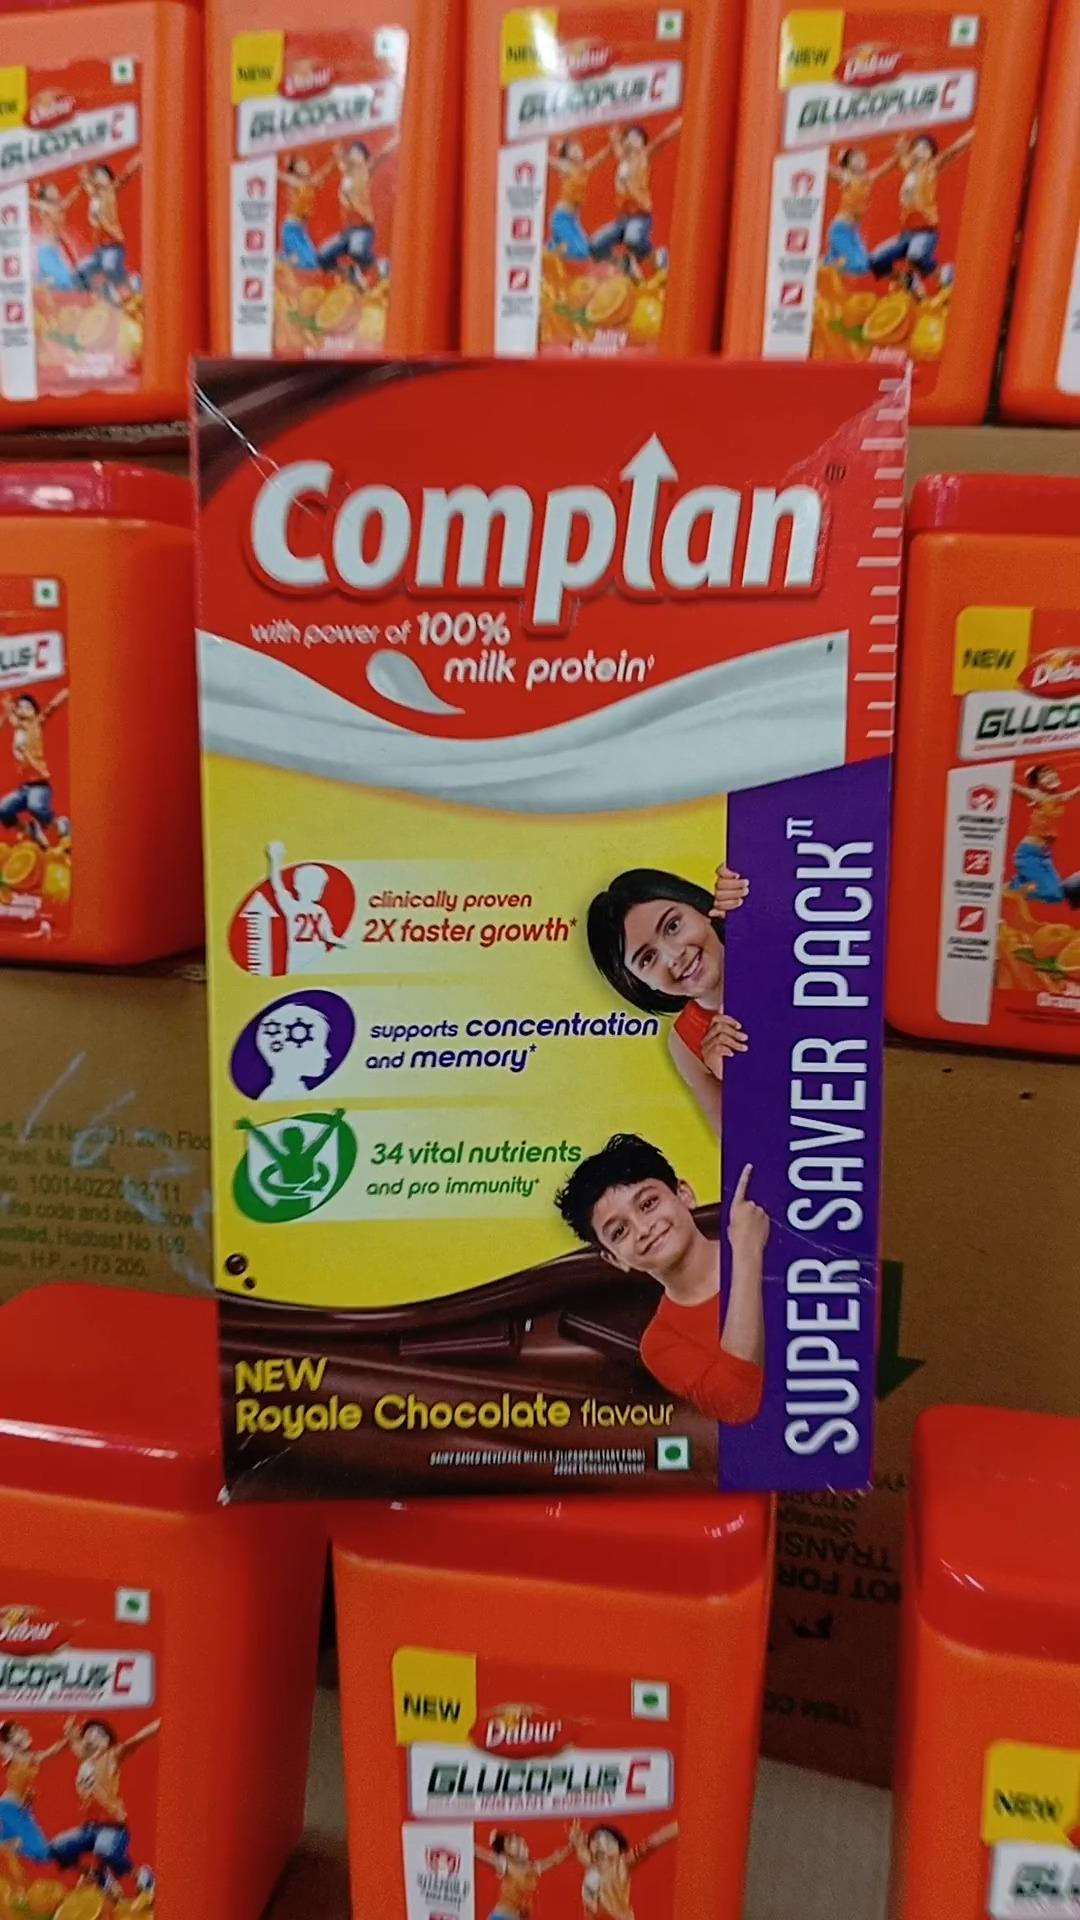COMPLAN_CHOCOLATE_1_KG_PACK: (198, 352, 890, 1499)
